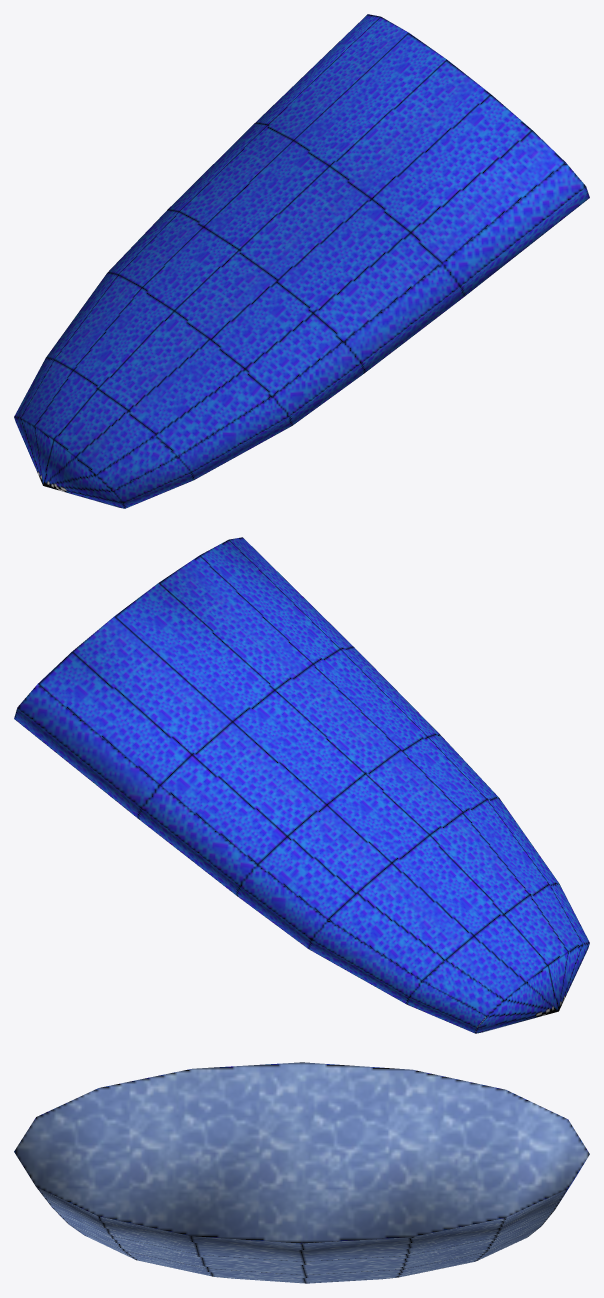
The model's file is pletwa2.obj.
3 views of the same model, one above another, from view 1: azimuth 30°, elevation 25°; view 2: azimuth 150°, elevation 25°; view 3: azimuth 270°, elevation 25° (orthographic). The views are drawn at different scales.
Visible parts, largest first — view 1: cone3_copy5; view 2: cone3_copy5; view 3: cone3_copy5.
Boxes of the visible parts, x1,y1,x2,y2 form: cone3_copy5: (14, 14, 589, 508); cone3_copy5: (14, 537, 589, 1033); cone3_copy5: (14, 1062, 589, 1283).
Bounding box in the file's own units: 0.3451 × 0.2412 × 0.281.
